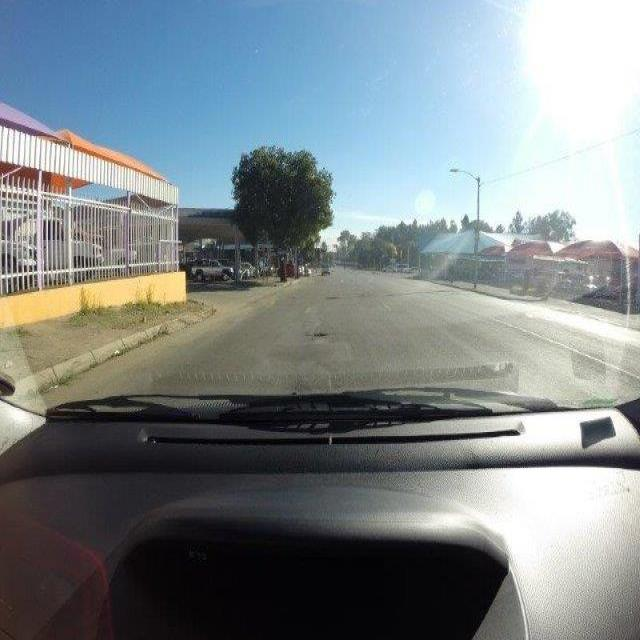lubang: (303, 324, 336, 341)
